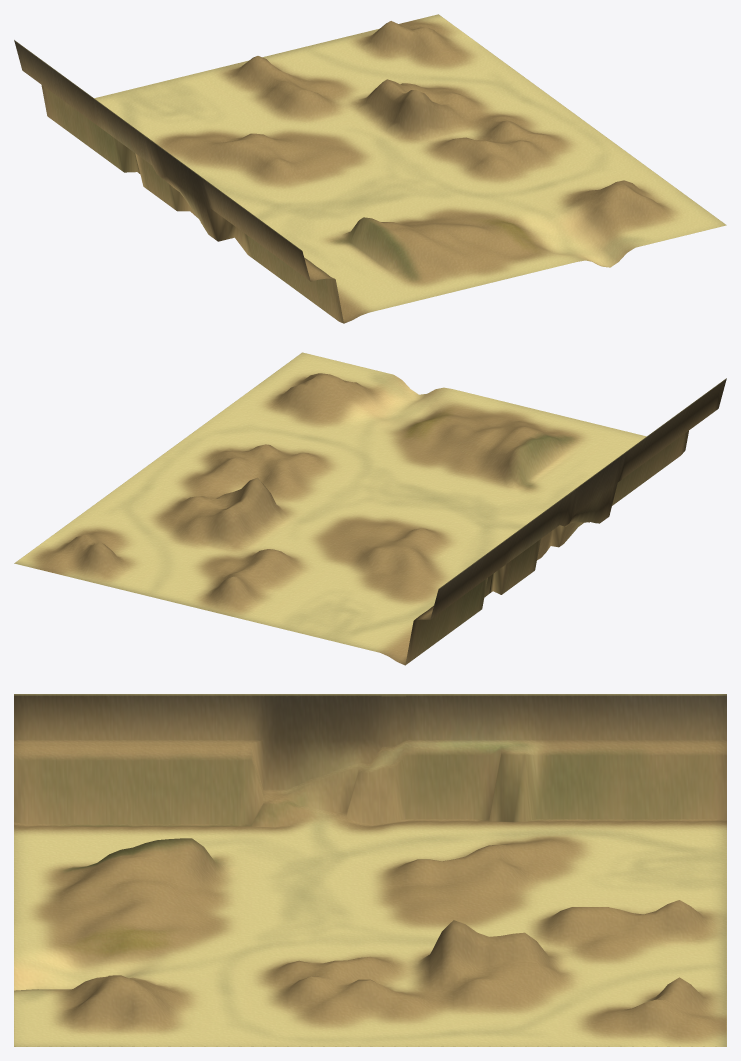
Rendered from Terrain.fbx.
The picture shows the model from 3 angles, top to bottom: view 1: azimuth 30°, elevation 25°; view 2: azimuth 150°, elevation 25°; view 3: azimuth 270°, elevation 25°; orthographic projection. The views are drawn at different scales.
Visible parts, largest first — view 1: Group1; view 2: Group1; view 3: Group1.
Part boxes in pixels (bbox=[...]): Group1: bbox=[14, 14, 726, 323]; Group1: bbox=[14, 352, 726, 665]; Group1: bbox=[14, 694, 726, 1046].
Size of the model in its own units: 1069 by 224 by 1258.
